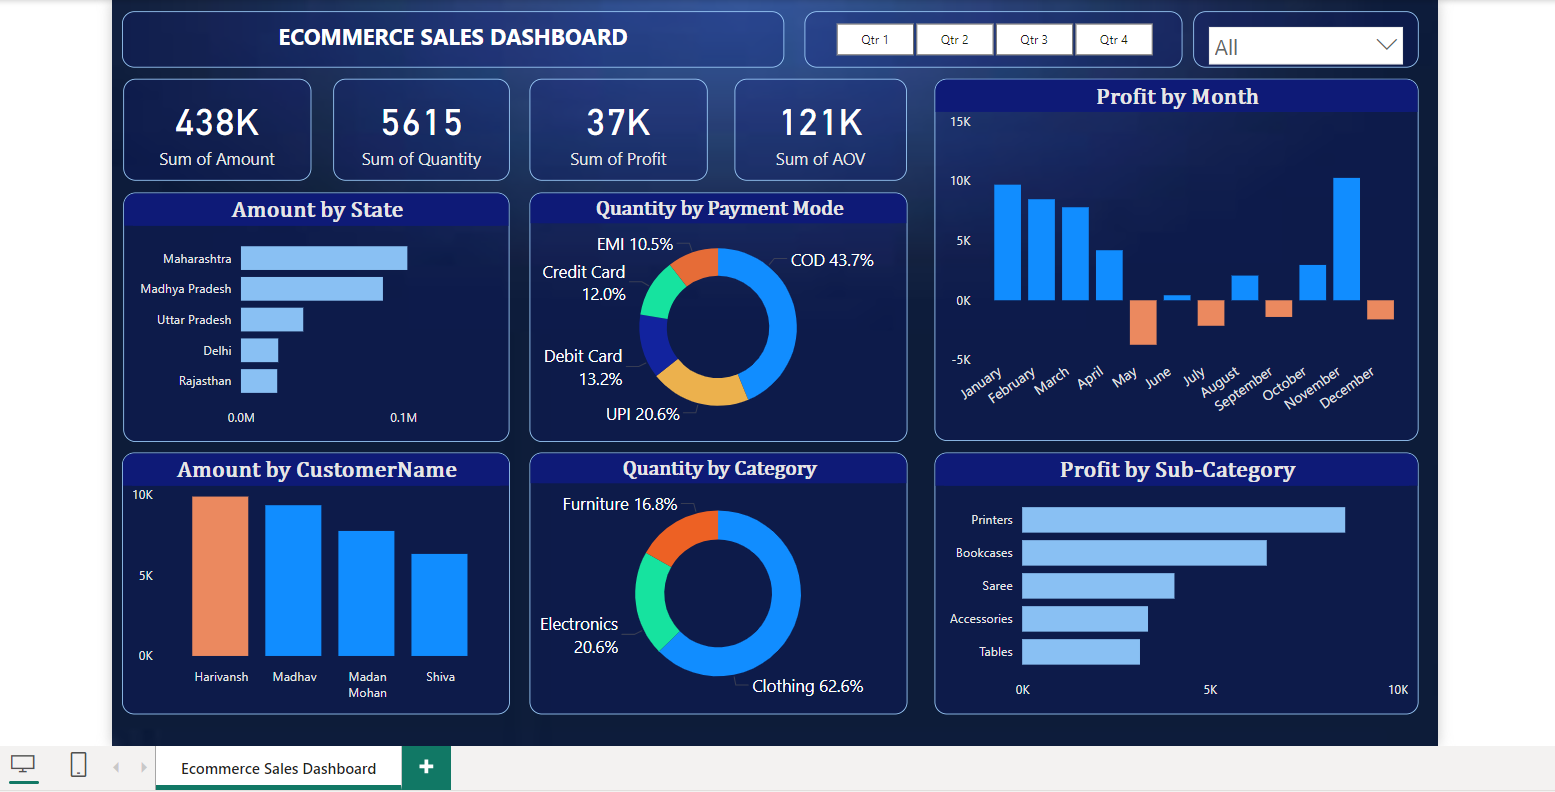

The page's visual inventory and layout, read from the dashboard file:
{"tool":"powerbi","page":{"name":"Ecommerce Sales Dashboard","canvas":[1280,720],"ordinal":0},"visuals":[{"type":"textbox","box":[9.6,10.9,639.5,54.7],"z":0},{"type":"columnChart","title":"Profit by Month","fields":{"Category":["Orders.Order Date.Variation.Date Hierarchy.Month"],"Y":["Details.Profit"]},"box":[793.9,76.5,467.3,349.8],"z":1000},{"type":"barChart","title":"Profit by Sub-Category","fields":{"Category":["Details.Sub-Category"],"Y":["Details.Profit"]},"box":[793.9,437.2,467.3,252.8],"z":2000},{"type":"donutChart","title":"Quantity by Category","fields":{"Category":["Details.Category"],"Y":["Details.Quantity"]},"box":[403.1,437.2,364.8,252.8],"z":3000},{"type":"donutChart","title":"Quantity by Payment Mode","fields":{"Y":["Details.Quantity"],"Category":["Details.PaymentMode"]},"box":[403.1,185.8,364.8,240.5],"z":4000},{"type":"card","fields":{"Values":["Details.Amount"]},"box":[10.9,76.5,181.7,98.4],"z":5000},{"type":"card","fields":{"Values":["Details.Quantity"]},"box":[213.2,76.5,170.8,98.4],"z":6000},{"type":"card","fields":{"Values":["Details.Profit"]},"box":[403.1,76.5,172.2,98.4],"z":7000},{"type":"card","fields":{"Values":["Details.Avg_order_value"]},"box":[601.2,76.5,166.7,98.4],"z":8000},{"type":"barChart","title":"Amount by State","fields":{"Y":["Details.Amount"],"Category":["Orders.State"]},"box":[10.9,185.8,373,240.5],"z":9000},{"type":"columnChart","title":"Amount by CustomerName","fields":{"Category":["Orders.CustomerName"],"Y":["Details.Amount"]},"box":[9.6,437.2,374.4,252.8],"z":10000},{"type":"slicer","fields":{"Values":["Orders.Order Date.Variation.Date Hierarchy.Quarter"]},"box":[668.1,10.9,364.8,54.7],"z":11000},{"type":"slicer","fields":{"Values":["Orders.State"]},"box":[1043.9,10.9,217.3,54.7],"z":12000}]}

Visuals, with their boxes in screenshot pixels (x1, y1, x2, y2):
textbox: [115, 28, 786, 85]
"Profit by Month" columnChart: [938, 96, 1428, 463]
"Profit by Sub-Category" barChart: [938, 475, 1428, 740]
"Quantity by Category" donutChart: [528, 475, 910, 740]
"Quantity by Payment Mode" donutChart: [528, 211, 910, 463]
card - Details.Amount: [117, 96, 307, 200]
card - Details.Quantity: [329, 96, 508, 200]
card - Details.Profit: [528, 96, 709, 200]
card - Details.Avg_order_value: [736, 96, 910, 200]
"Amount by State" barChart: [117, 211, 508, 463]
"Amount by CustomerName" columnChart: [115, 475, 508, 740]
slicer - Orders.Order Date.Variation.Date Hierarchy.Quarter: [806, 28, 1188, 85]
slicer - Orders.State: [1200, 28, 1428, 85]
